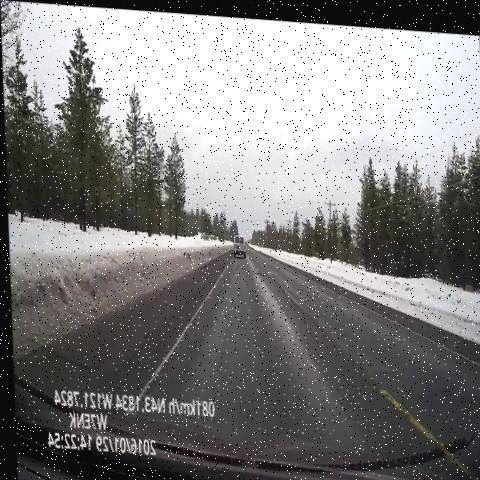pothole: (247, 263, 262, 282)
